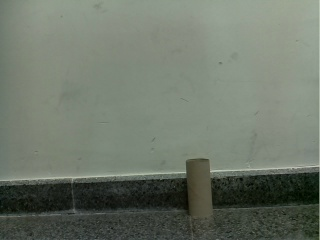rollo papel: (186, 158, 215, 218)
